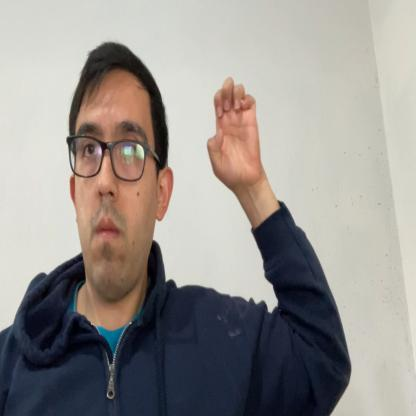E: (207, 76, 262, 192)
